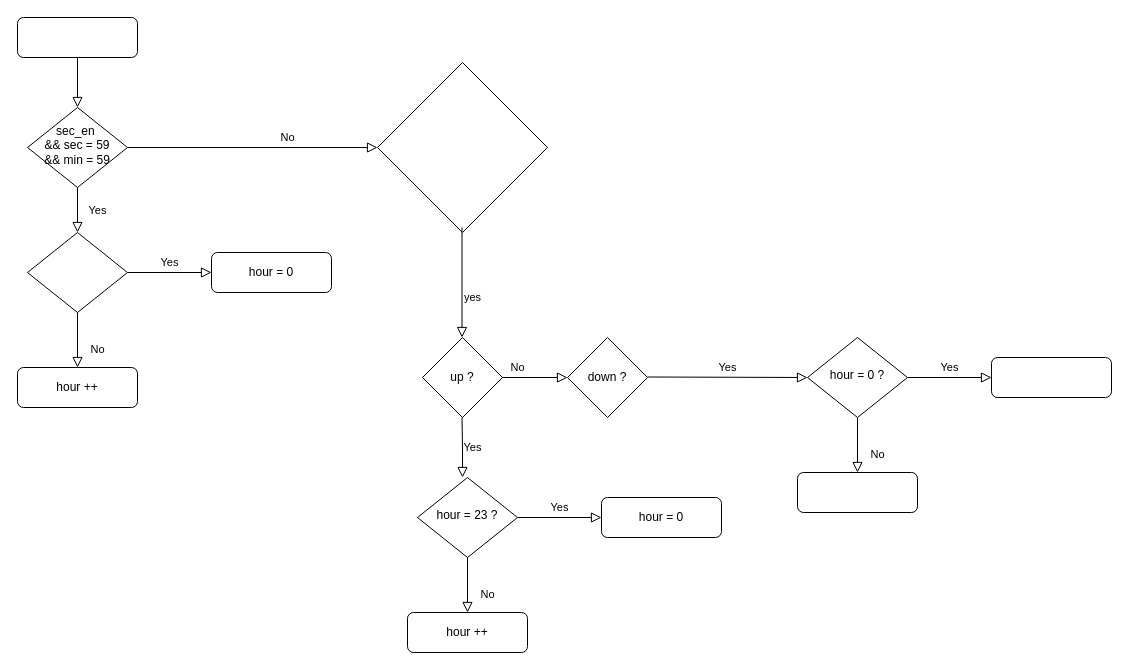
The diagram is 1129 pixels wide and 670 high, and some of its shapes have lost their labels. The shapes that lost their labels are listed below. From the top down, each one's box as (x1, y1, x2, y2) in pixels, then its label:
(16, 16, 138, 58): start
(376, 62, 548, 232): en_5hz && mode = 11? (mode chỉnh giây và dùng xung 5 gấp 5 lần)
(26, 232, 128, 312): hour= 23 ?
(990, 356, 1112, 398): hour = 59
(796, 472, 918, 512): min --
